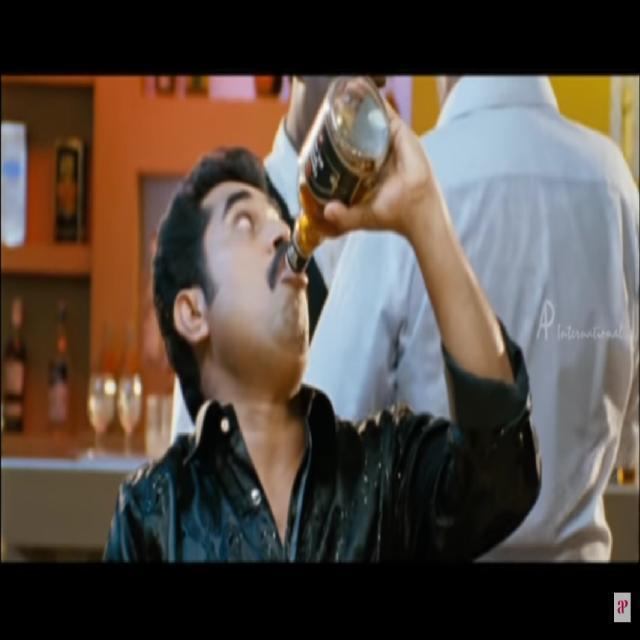Drinking: (179, 82, 414, 382)
